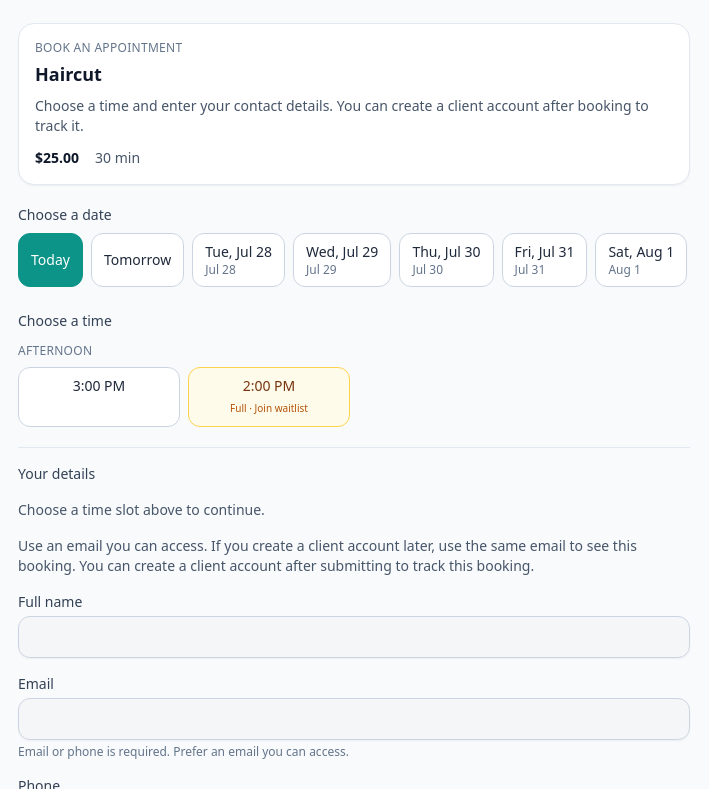
it: BookingPage waitlist › shows join waitlist submit for full waitlist slot
Click the button with test id "waitlist-slot" at (269, 397), box [188,367,350,427]
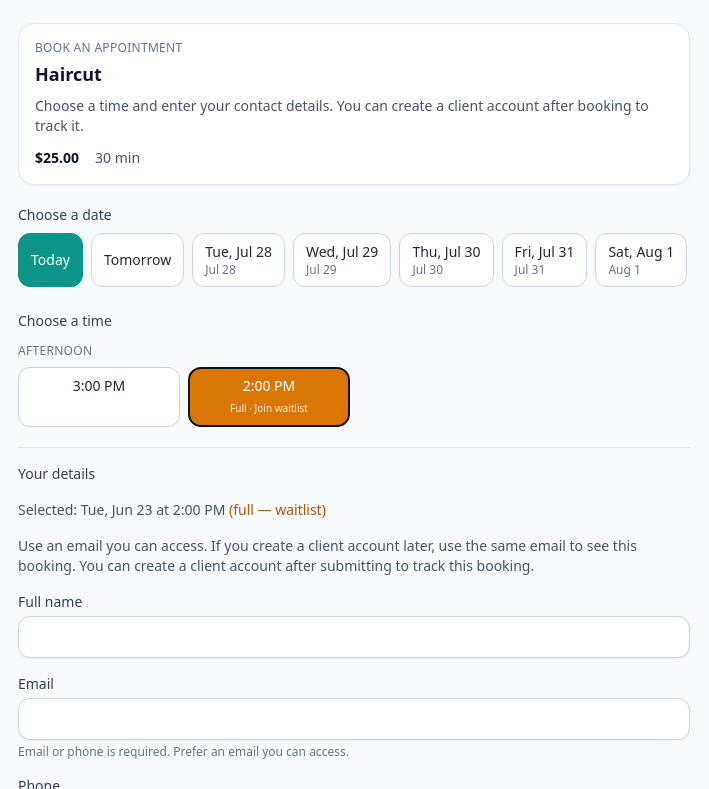
Type "Jane Doe" into the field labelled "Full name" at (354, 637), box [18,616,690,658]
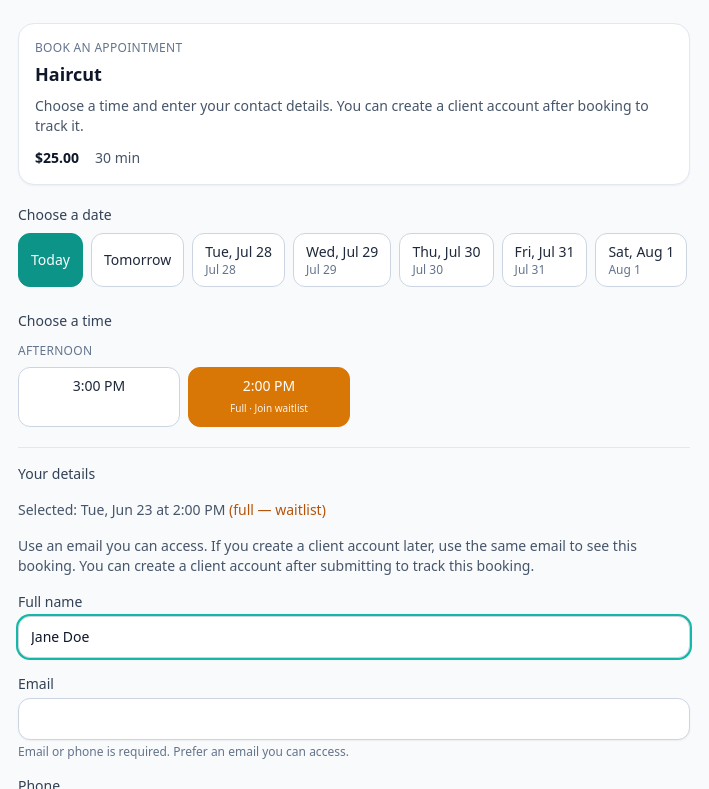
Type "jane@example.com" into the field labelled "Email" at (354, 719), box [18,698,690,740]
(page scrolled)
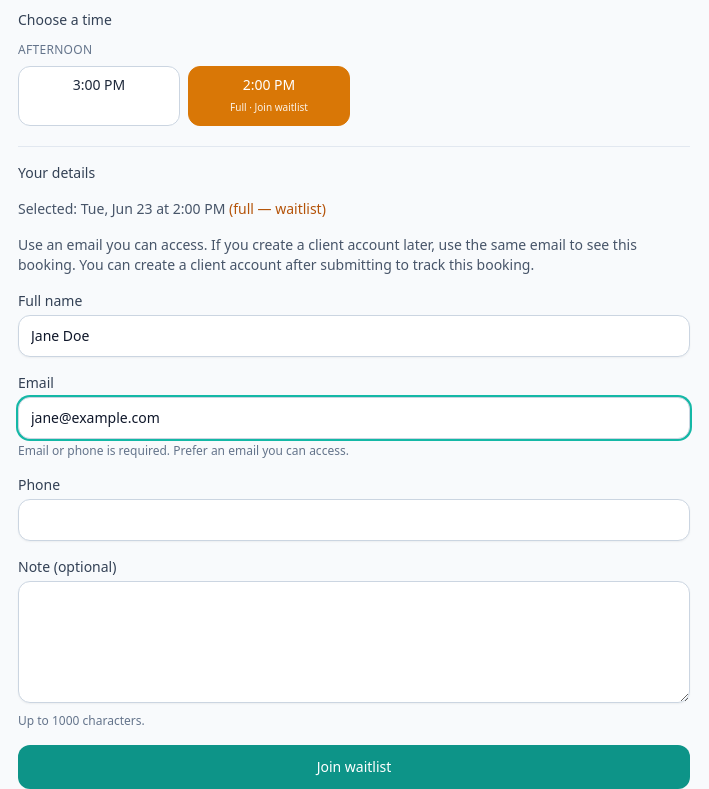
Click the button with test id "join-waitlist-submit" at (354, 767), box [18,745,690,788]
(page scrolled)
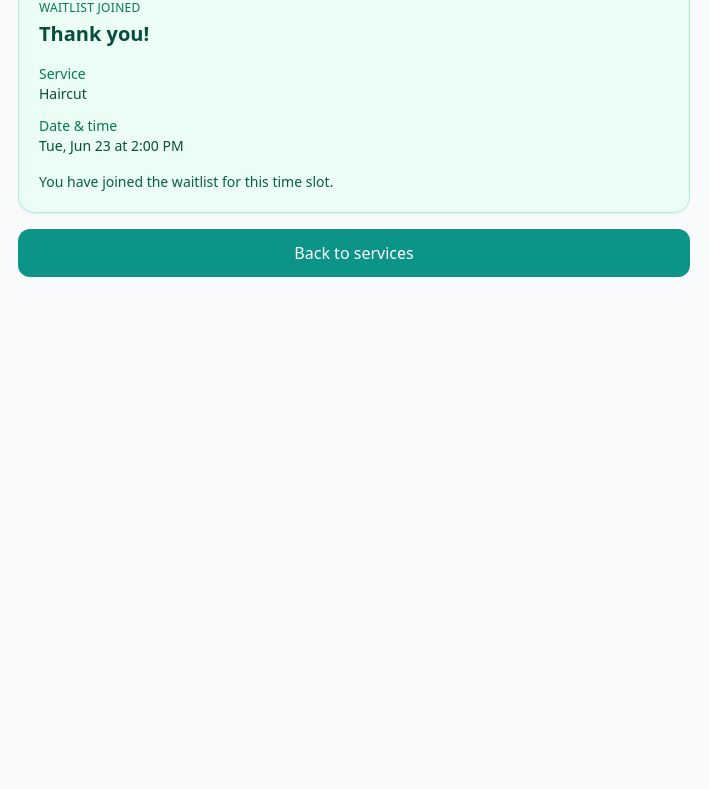
Result: the text "You have joined the waitlist for this time slot." is shown at [39,172,333,191]
